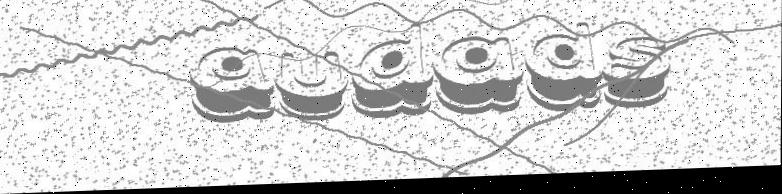a: (432, 38, 526, 119), (189, 47, 277, 127)
d: (351, 25, 437, 124), (524, 25, 604, 118)
s: (603, 40, 673, 115)
u: (273, 51, 351, 126)
